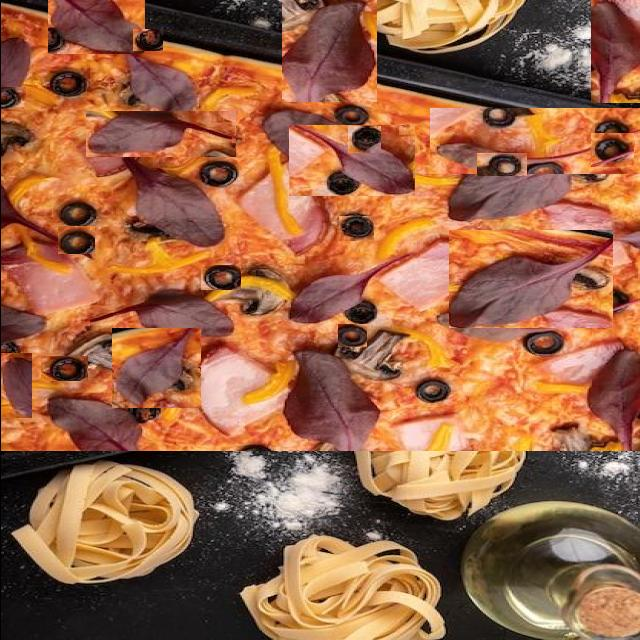basil: (448, 230, 612, 328), (429, 108, 640, 174), (256, 252, 386, 344), (118, 204, 227, 297), (281, 0, 376, 102), (288, 125, 414, 198), (111, 328, 200, 408), (85, 111, 235, 157), (47, 0, 144, 54), (590, 0, 640, 103), (0, 353, 31, 418), (0, 106, 40, 150)
olive: (590, 133, 633, 167), (521, 92, 563, 123), (40, 356, 87, 381), (476, 153, 526, 176), (57, 226, 94, 254), (200, 265, 240, 290), (410, 48, 452, 71), (338, 216, 373, 241), (347, 127, 380, 153), (337, 324, 366, 347), (132, 29, 162, 51), (0, 87, 25, 111), (239, 0, 273, 10)
pizza: (0, 0, 640, 451)
